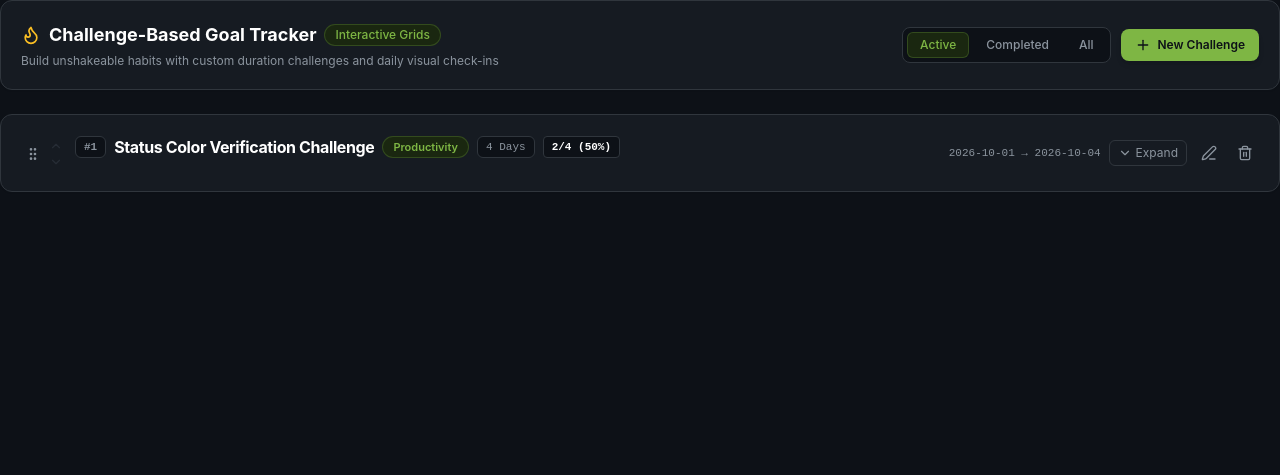
ChallengeTracker Component › computes dynamic day status and summary counts for on-time, late, incomplete, and skipped days
The image size is (1280, 475).
Note: Expand the challenge first to view the grid and breakdown
Click the button titled "Maximize Challenge Grid".
click(1148, 153)  # box [1109,140,1187,166]
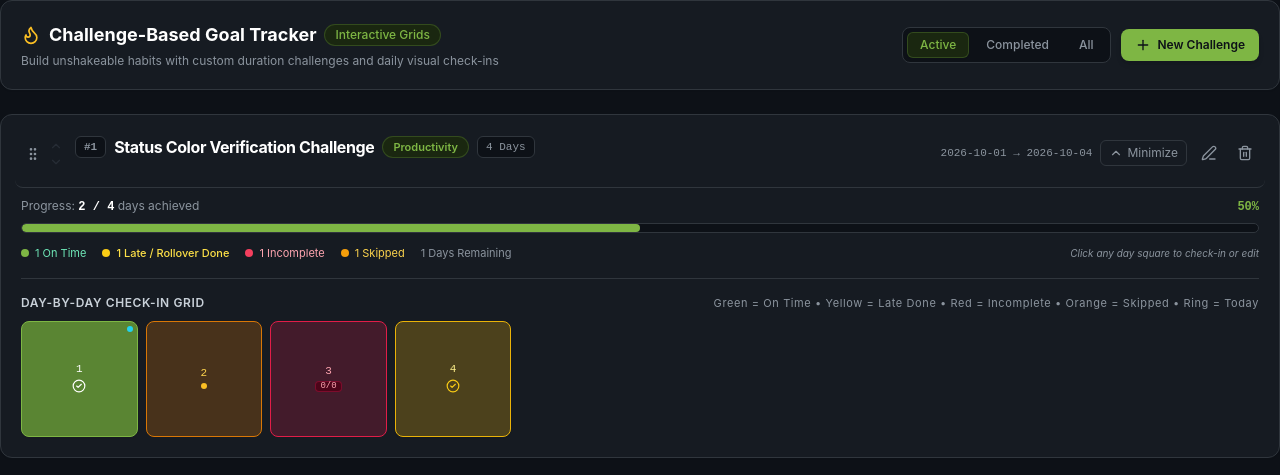
expect the text "1 On Time" is shown: met, box [21,245,86,262]
expect the text "1 Late / Rollover Done" is shown: met, box [102,245,229,262]
expect the text "1 Skipped" is shown: met, box [341,245,405,262]
